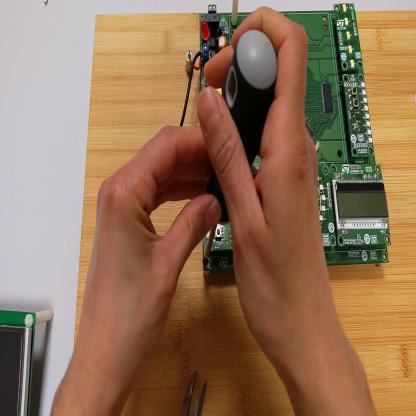hand: (199, 9, 332, 362), (79, 123, 218, 384)
low voltage board: (181, 2, 392, 272)
screwdriver-: (203, 30, 279, 268)
working area: (74, 10, 416, 416)
